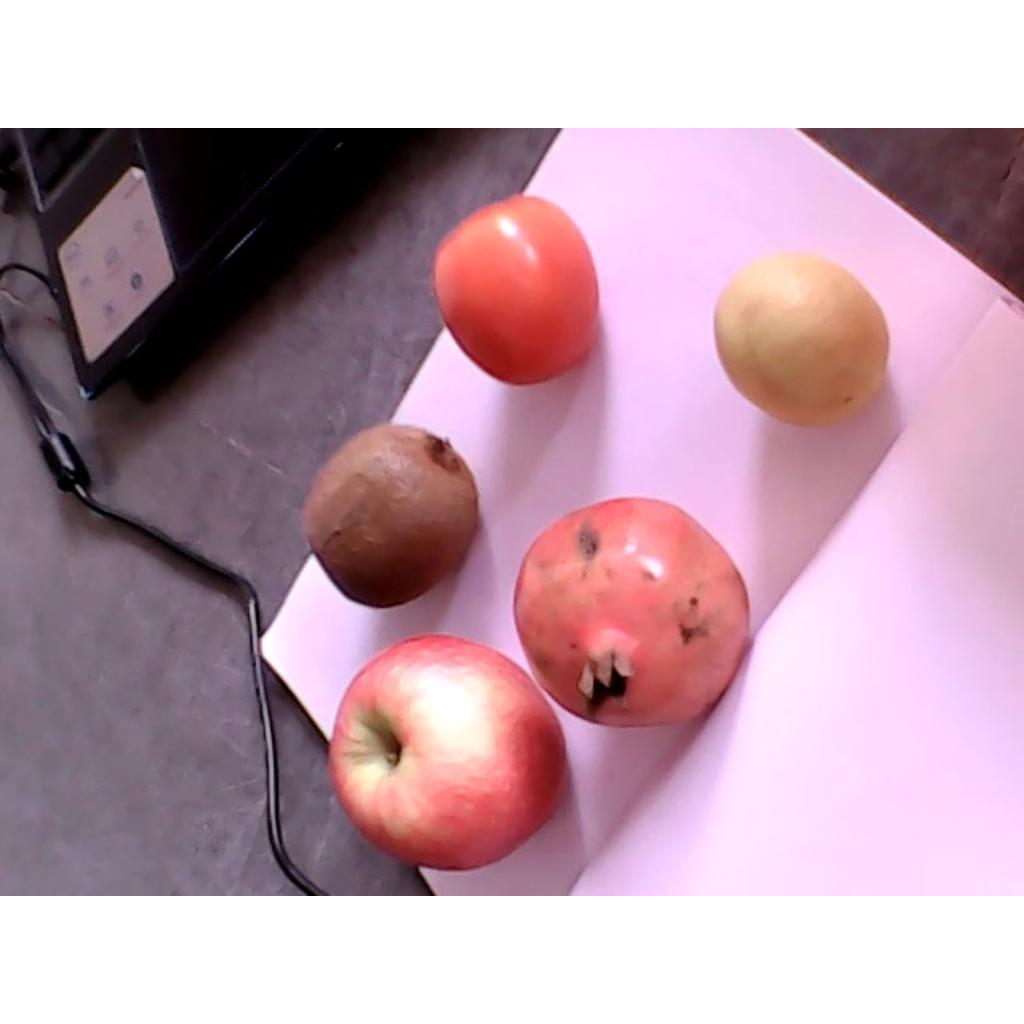apple: (330, 633, 566, 869)
kiwi: (303, 423, 480, 607)
lemon: (714, 256, 889, 425)
pomegranate: (514, 498, 749, 727)
tomato: (432, 195, 598, 386)
